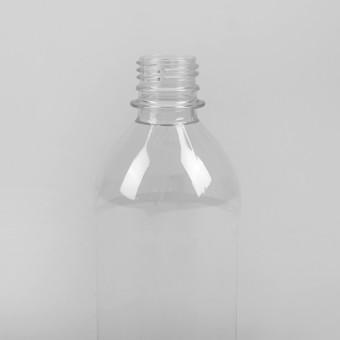bottle: (94, 52, 242, 340)
